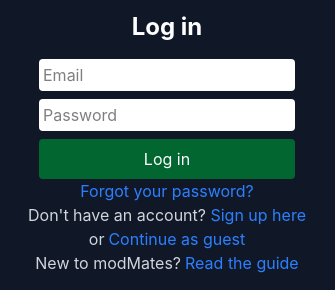
shows verification message after signup
Click the button "Sign up here" at [258, 215], box [210,203,306,227]
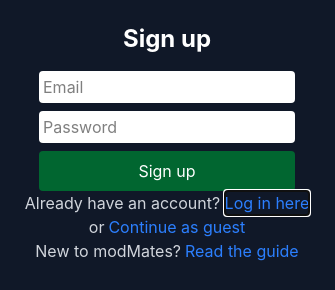
Type "test@example.com" into the field with placeholder "Email" at [167, 87], box [39,71,295,103]
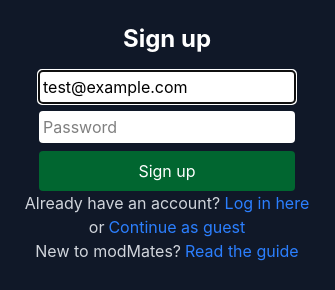
Type "password" into the password field with placeholder "Password" at [167, 127], box [39,111,295,143]
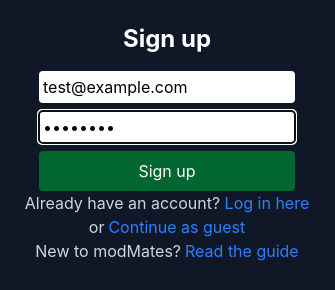
Click the button "Sign up" at [167, 171], box [39,151,295,191]
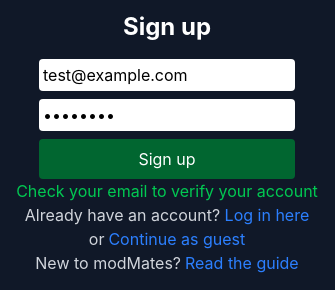
Check: the text "Check your email to verify your account" is shown, box [16,179,318,203]
